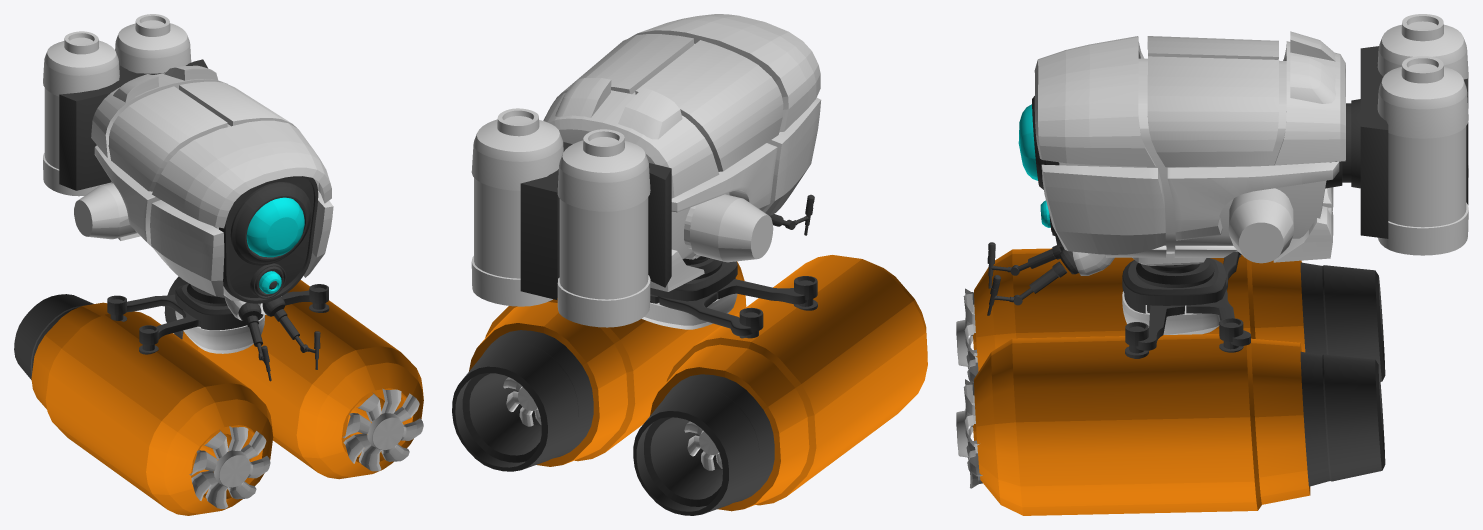
The model's file is bot_BOSS.fbx.
3 renders of one model, left to right at view 1: azimuth 30°, elevation 25°; view 2: azimuth 150°, elevation 25°; view 3: azimuth 270°, elevation 25°, orthographic. The views are drawn at different scales.
Visible parts, largest first — view 1: polySurface4994; view 2: polySurface4994; view 3: polySurface4994.
Boxes of the visible parts, x1,y1,x2,y2 form: polySurface4994: [14, 14, 423, 515]; polySurface4994: [452, 14, 927, 515]; polySurface4994: [956, 14, 1468, 515].
Size of the model in its own units: 326 by 383 by 425.
